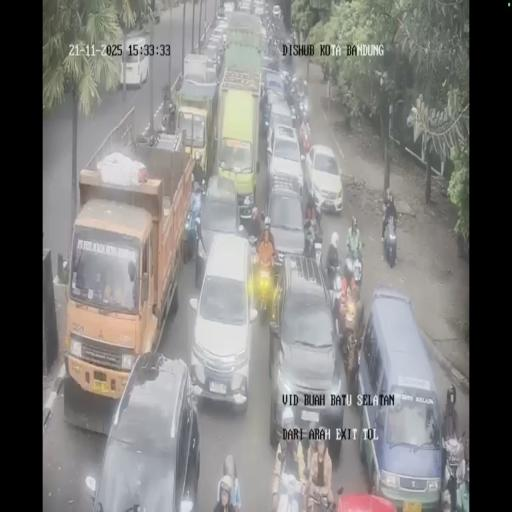car: (356, 288, 442, 504), (90, 354, 200, 509), (269, 259, 346, 451), (196, 173, 246, 279), (264, 190, 306, 269), (266, 120, 304, 204), (304, 144, 344, 216), (119, 36, 149, 88), (262, 70, 287, 112), (202, 40, 224, 74), (212, 16, 230, 46), (260, 50, 277, 77), (238, 0, 252, 13), (254, 0, 266, 15), (223, 1, 235, 15), (272, 4, 282, 19)
motorcycle: (272, 462, 306, 512), (255, 260, 277, 318), (289, 74, 308, 124), (382, 210, 398, 266), (330, 265, 345, 324), (310, 229, 324, 265), (299, 124, 312, 155), (352, 254, 363, 290)
truck: (172, 66, 218, 179), (221, 9, 264, 81)
